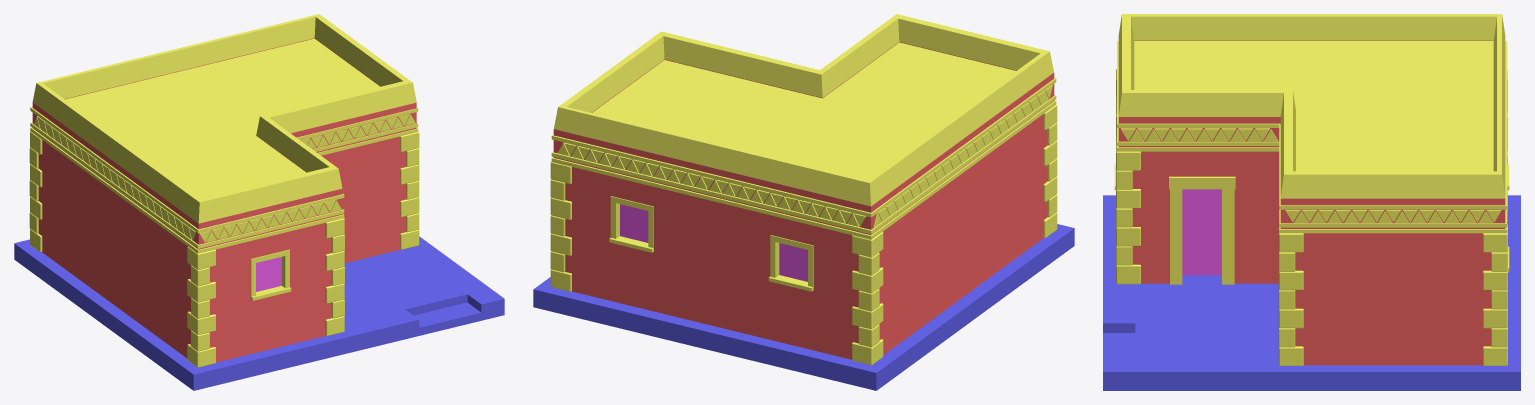
File: Basic House.fbx
3 views of the same model, side by side, from view 1: azimuth 30°, elevation 25°; view 2: azimuth 150°, elevation 25°; view 3: azimuth 270°, elevation 25° (orthographic). The views are drawn at different scales.
Parts seen in each view (by area): view 1: Cube.002, Cube, Cube.009, Cube.006, Cube.020, Cube.012; view 2: Cube.002, Cube, Cube.006, Cube.009, Cube.020, Cube.012; view 3: Cube.002, Cube, Cube.009, Cube.006, Cube.020, Cube.003.
Part boxes in pixels (x1,y1,x2,y2): Cube.002: [32, 14, 416, 362]; Cube: [14, 236, 504, 390]; Cube.009: [29, 131, 419, 367]; Cube.006: [30, 107, 418, 253]; Cube.020: [34, 114, 415, 242]; Cube.012: [250, 249, 291, 300]; Cube.002: [553, 14, 1054, 359]; Cube: [533, 224, 1074, 390]; Cube.006: [551, 78, 1056, 239]; Cube.009: [550, 104, 1057, 365]; Cube.020: [557, 85, 1052, 227]; Cube.012: [609, 196, 813, 291]; Cube.002: [1118, 14, 1505, 365]; Cube: [1103, 195, 1520, 390]; Cube.009: [1116, 69, 1507, 365]; Cube.006: [1117, 41, 1507, 233]; Cube.020: [1117, 128, 1506, 222]; Cube.003: [1169, 176, 1235, 284].
Size of the model in its own units: 400 by 220 by 400.
